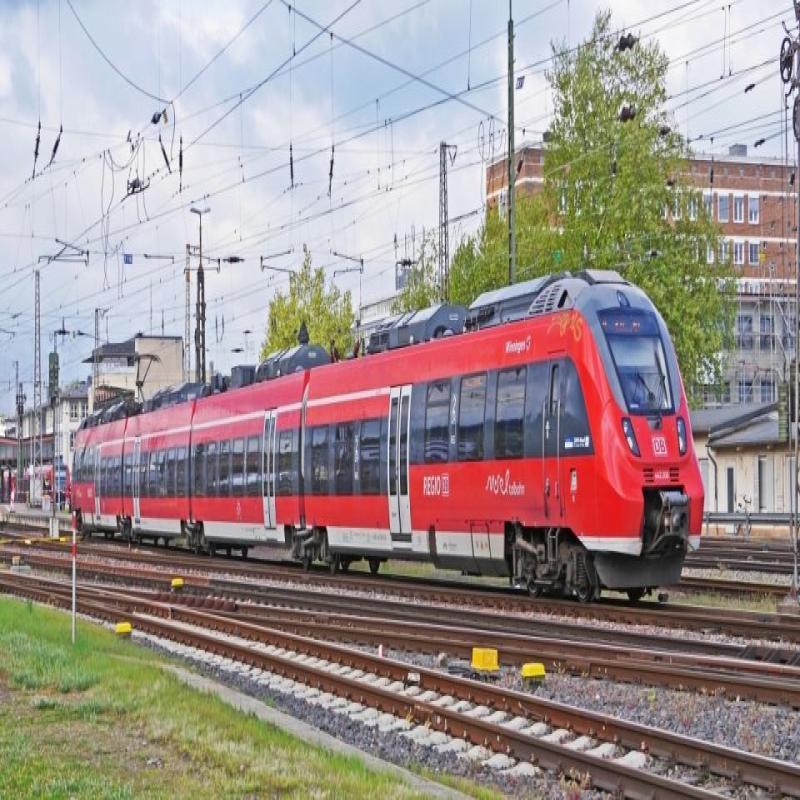train: (59, 285, 727, 573)
